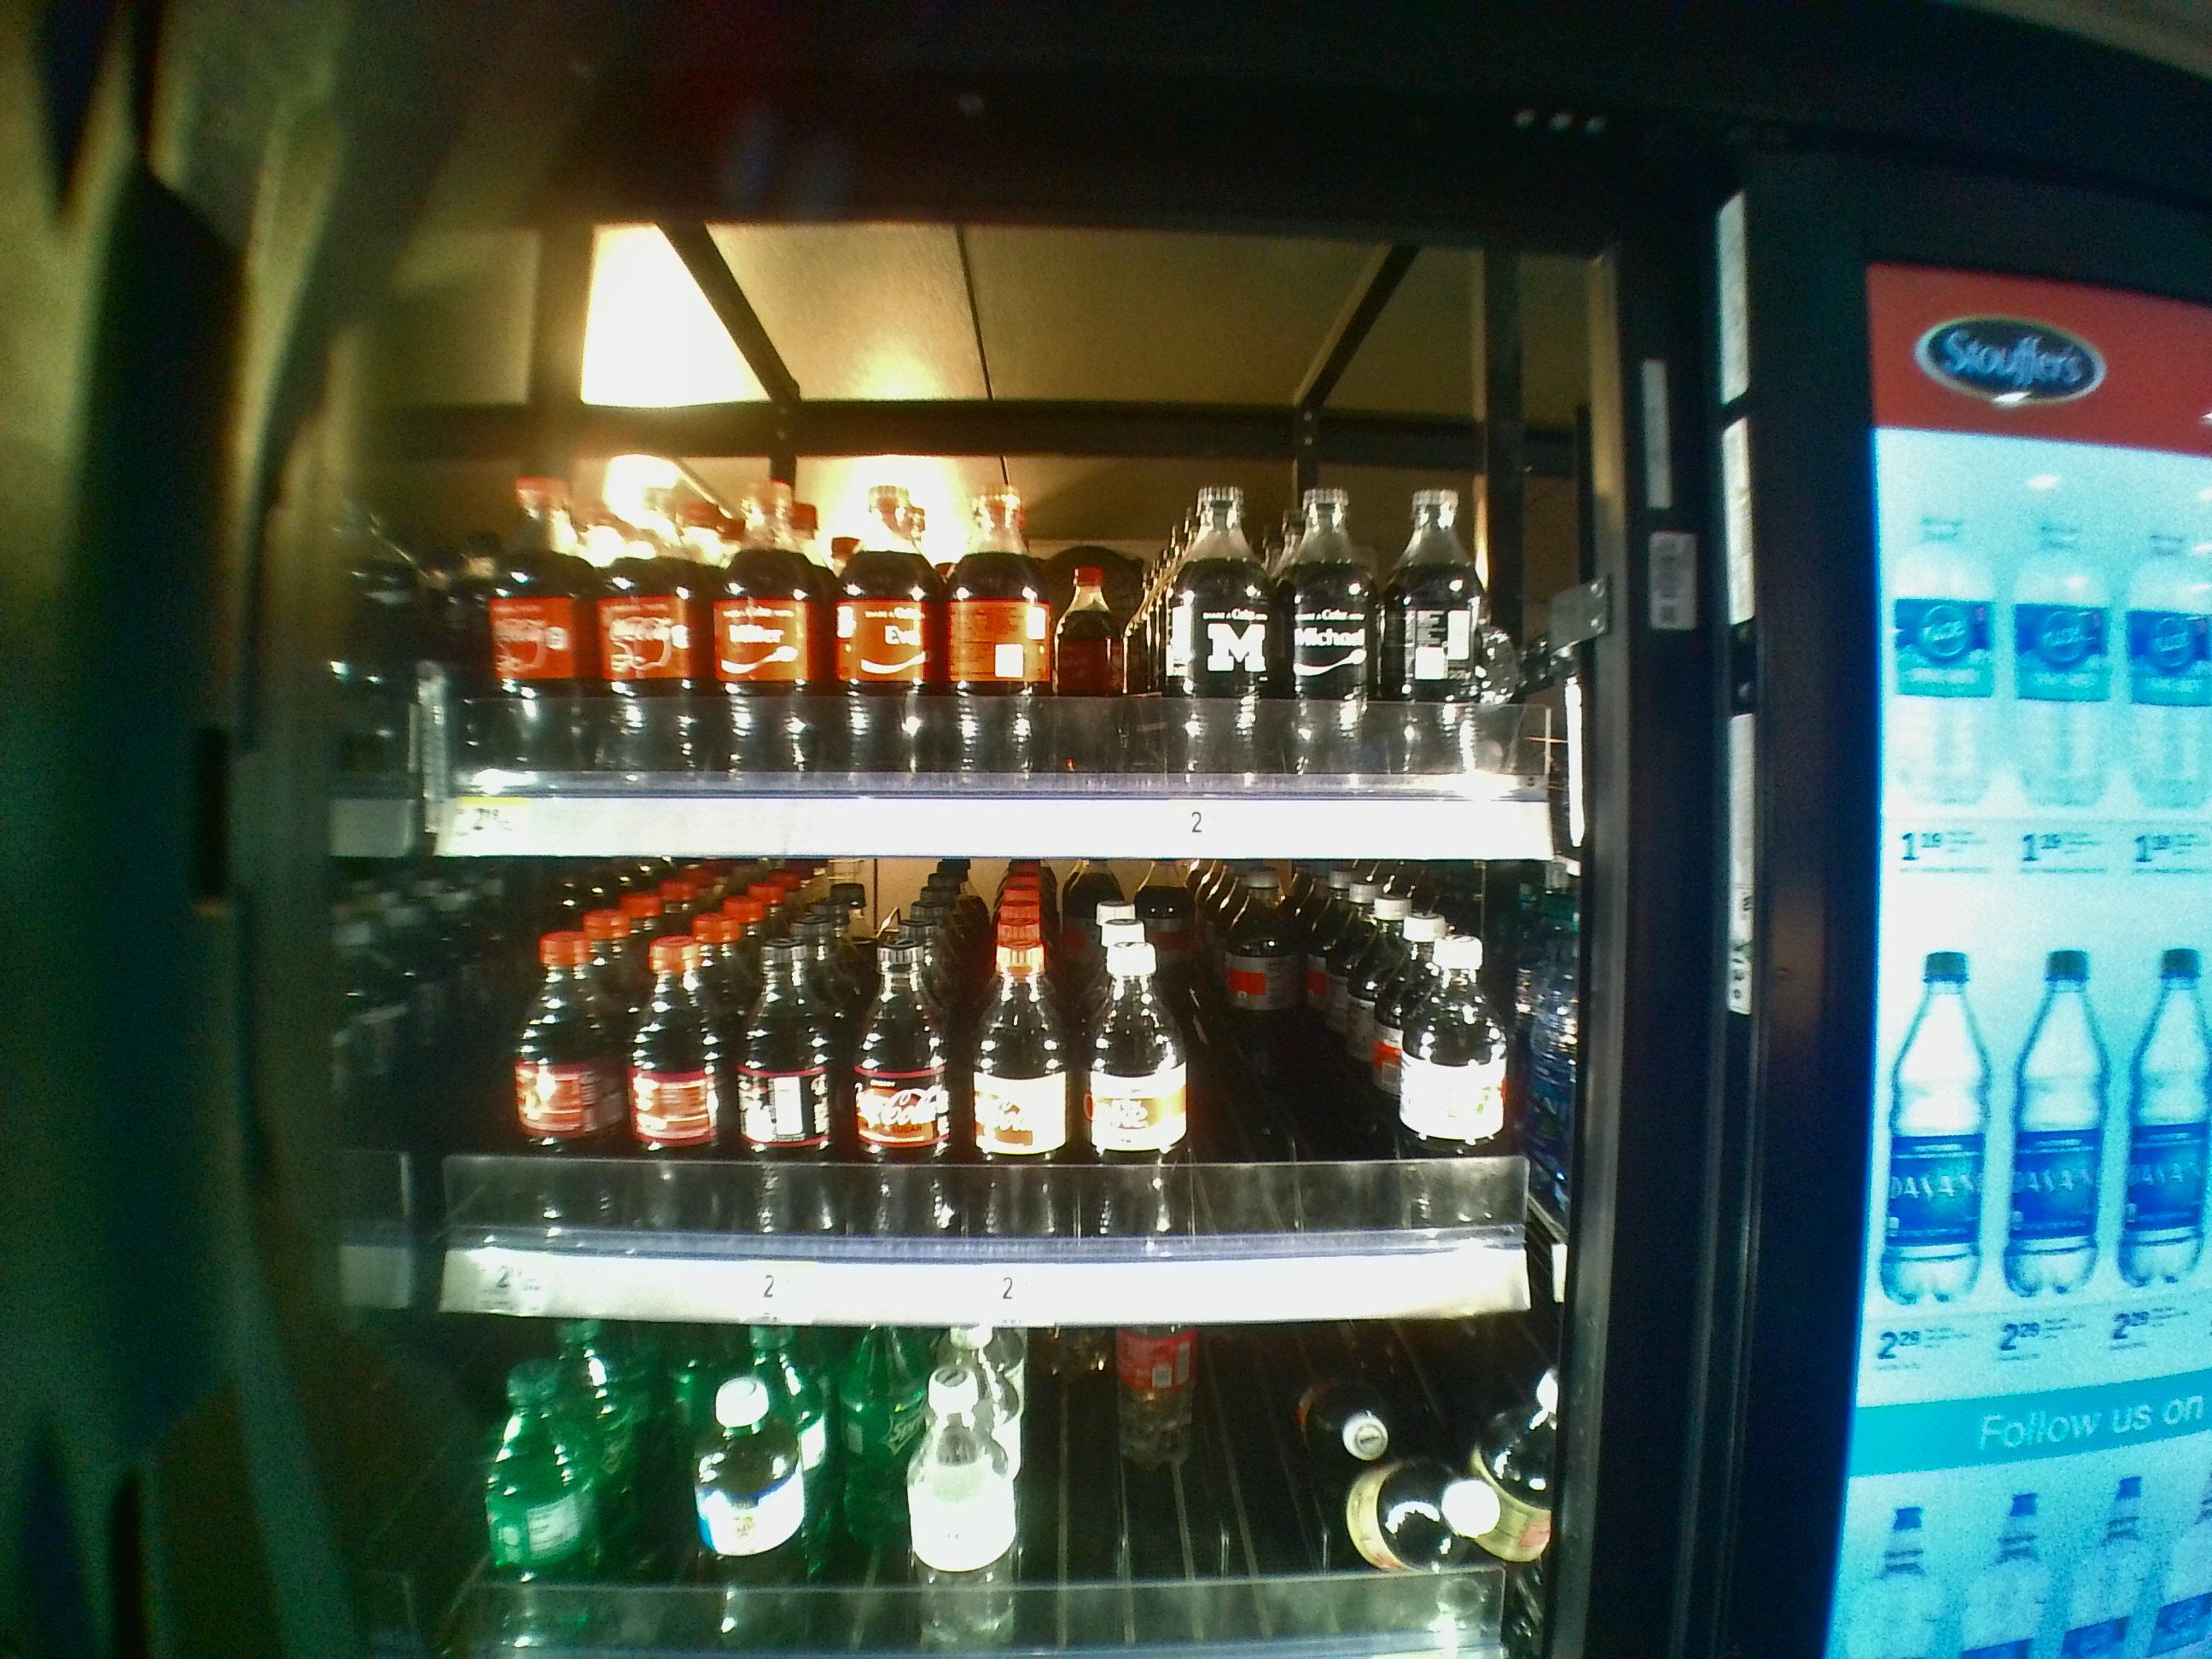shelf: (404, 221, 1618, 857), (406, 857, 1618, 1328)
